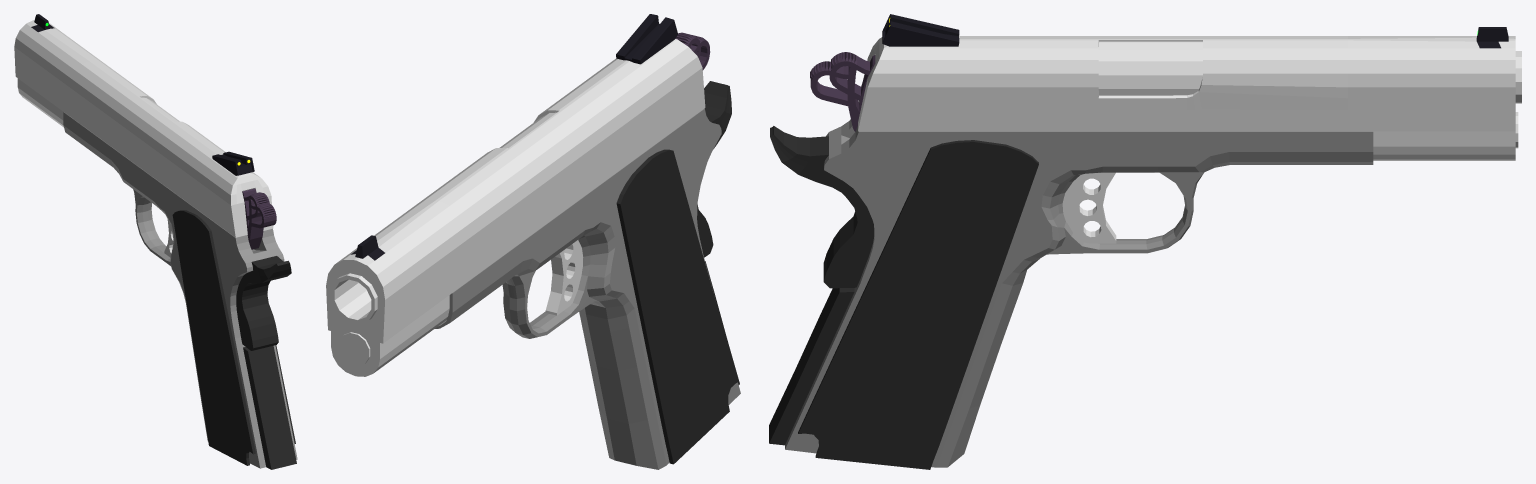
Rendered from pistol2.fbx.
The picture shows the model from 3 angles, left to right: view 1: azimuth 30°, elevation 25°; view 2: azimuth 150°, elevation 25°; view 3: azimuth 270°, elevation 25°; orthographic projection. The views are drawn at different scales.
Visible parts, largest first — view 1: Handle, Slide, Handle.001, Slide.001, Hammer.001, Hammer; view 2: Handle, Slide, Handle.001, Slide.001, Barrel, Trigger; view 3: Handle, Handle.001, Slide.001, Slide, Block, Block.001, Trigger.001, Hammer.001, Hammer.
Boxes of the visible parts, x1,y1,x2,y2 form: Handle: [63, 112, 289, 464]; Slide: [14, 14, 273, 237]; Handle.001: [123, 179, 297, 469]; Slide.001: [14, 21, 254, 218]; Hammer.001: [247, 198, 276, 249]; Hammer: [242, 188, 269, 228]; Handle: [435, 81, 739, 469]; Slide: [326, 39, 705, 376]; Handle.001: [514, 127, 740, 465]; Slide.001: [365, 14, 677, 373]; Barrel: [331, 273, 377, 323]; Trigger: [545, 240, 583, 315]; Handle: [769, 119, 1373, 469]; Handle.001: [769, 126, 1373, 456]; Slide.001: [858, 14, 1518, 160]; Slide: [858, 18, 1518, 133]; Block: [1098, 41, 1202, 88]; Block.001: [1098, 75, 1202, 95]; Trigger.001: [1062, 172, 1116, 243]; Hammer.001: [810, 61, 859, 131]; Hammer: [829, 52, 875, 118].
Bounding box in the file's own units: 41.1 × 268 × 419.
